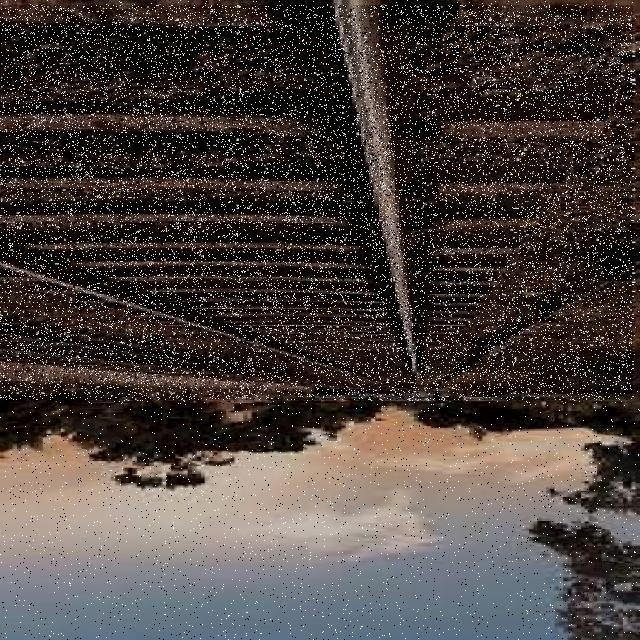rail: (1, 6, 634, 401)
